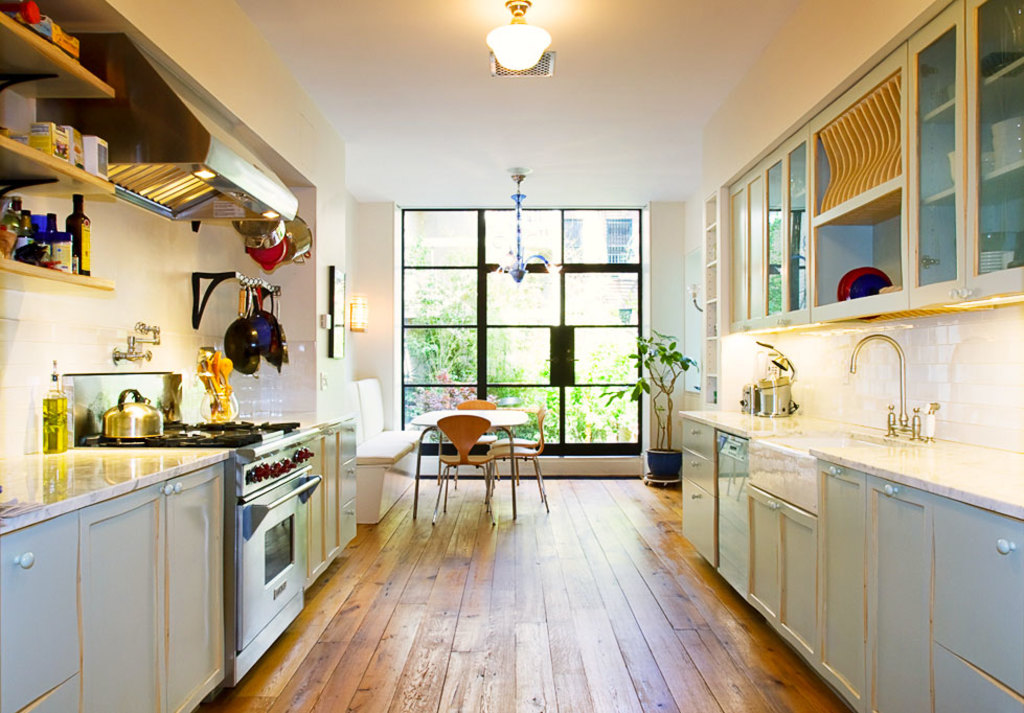cabinet door: (76, 497, 166, 713), (904, 42, 974, 291), (931, 497, 1024, 667), (972, 7, 1024, 280), (177, 469, 237, 671), (874, 497, 930, 707), (822, 465, 870, 694), (0, 545, 78, 665), (781, 154, 817, 316), (762, 168, 790, 321), (779, 517, 812, 641), (744, 183, 771, 325), (746, 496, 778, 611), (728, 189, 751, 325), (684, 487, 718, 546), (686, 421, 714, 453), (338, 459, 359, 500), (686, 454, 714, 483), (339, 506, 364, 530), (338, 432, 356, 458)
handle: (257, 476, 322, 537), (11, 545, 38, 577), (993, 534, 1020, 562), (878, 479, 903, 505), (955, 279, 977, 306), (686, 486, 706, 510), (767, 498, 790, 518), (157, 482, 174, 507), (831, 459, 849, 482), (174, 477, 185, 505), (684, 427, 702, 444), (686, 459, 702, 473)
